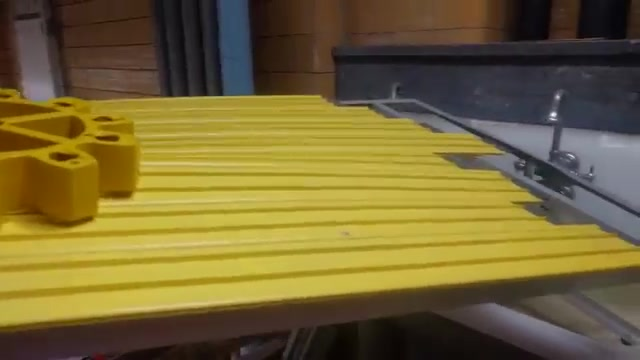gear: (1, 74, 147, 232)
